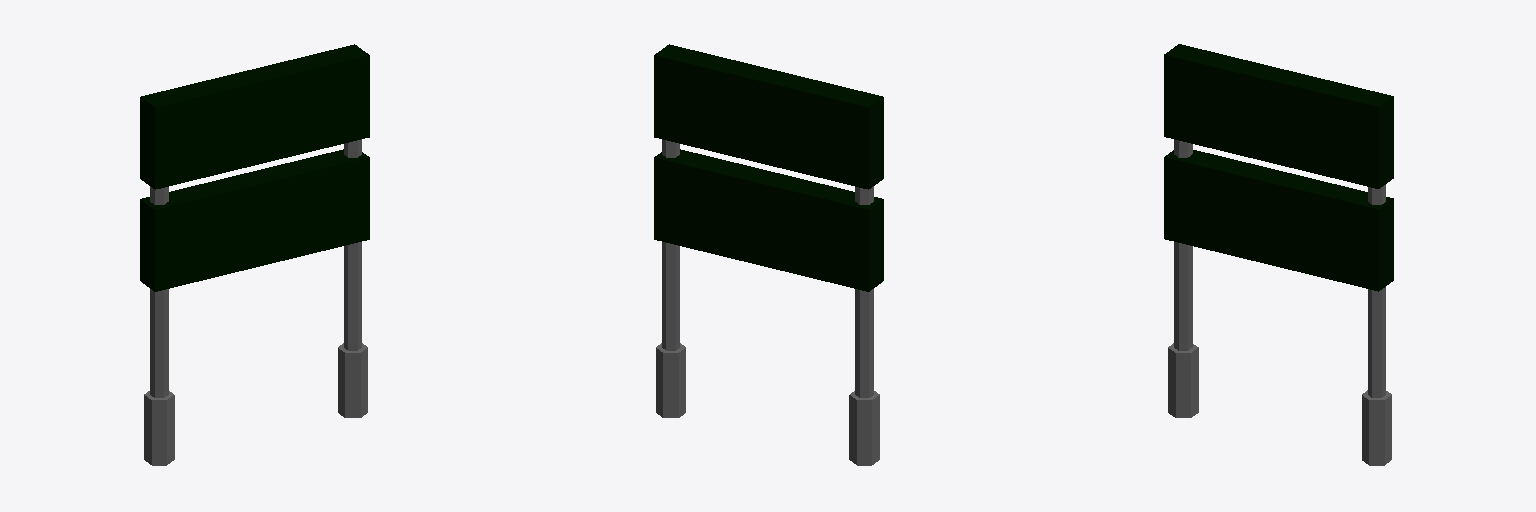
File: SignBoard_06.obj
The picture shows the model from 3 angles: view 1: azimuth 30°, elevation 25°; view 2: azimuth 150°, elevation 25°; view 3: azimuth 330°, elevation 25°; orthographic projection.
Visible parts, largest first — view 1: SignBoard_06_Cylinder.024; view 2: SignBoard_06_Cylinder.024; view 3: SignBoard_06_Cylinder.024.
Boxes of the visible parts, x1=… form: SignBoard_06_Cylinder.024: x1=140, y1=44, x2=369, y2=465; SignBoard_06_Cylinder.024: x1=654, y1=44, x2=883, y2=465; SignBoard_06_Cylinder.024: x1=1164, y1=44, x2=1393, y2=465.
Bounding box in the file's own units: 9.03 × 14.36 × 1.1.